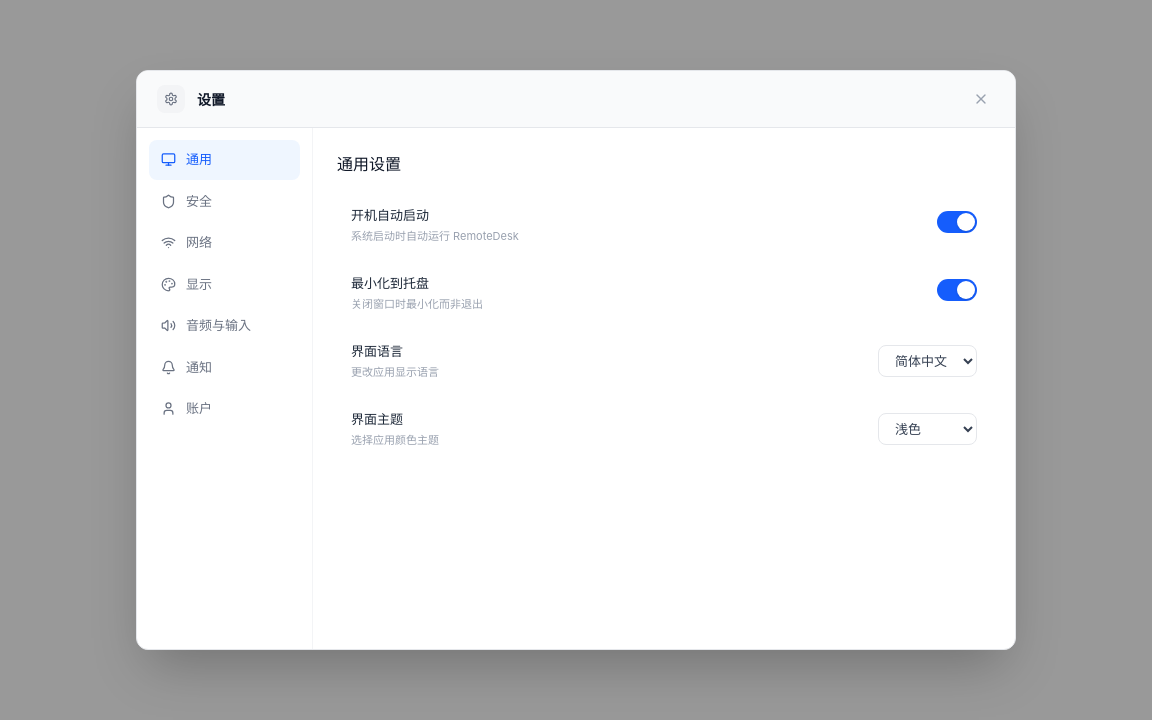
it: SettingsModal - Component Behavior › should switch between sections when clicking nav items
Expected: the heading "设置" is shown, [197,90,225,108]
// Click on "安全" section
Click the button "安全".
click(224, 201)  # box [149,182,300,221]
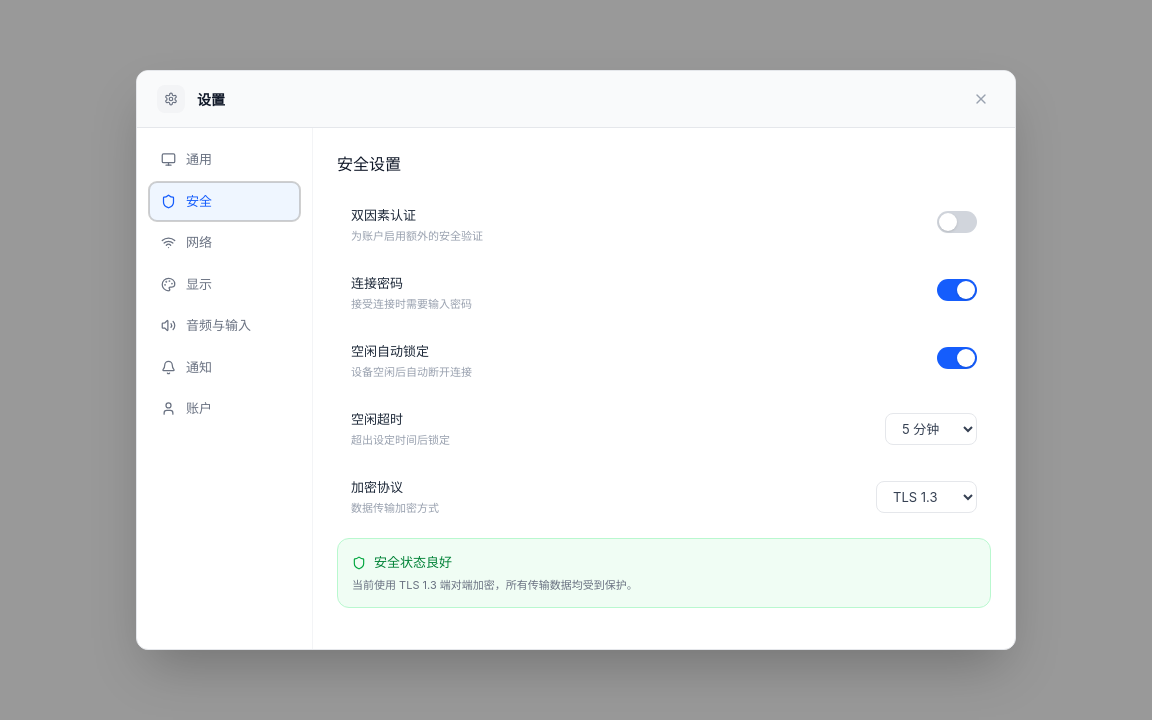
Now the text "双因素认证" is shown, box [351,207,416,223]
